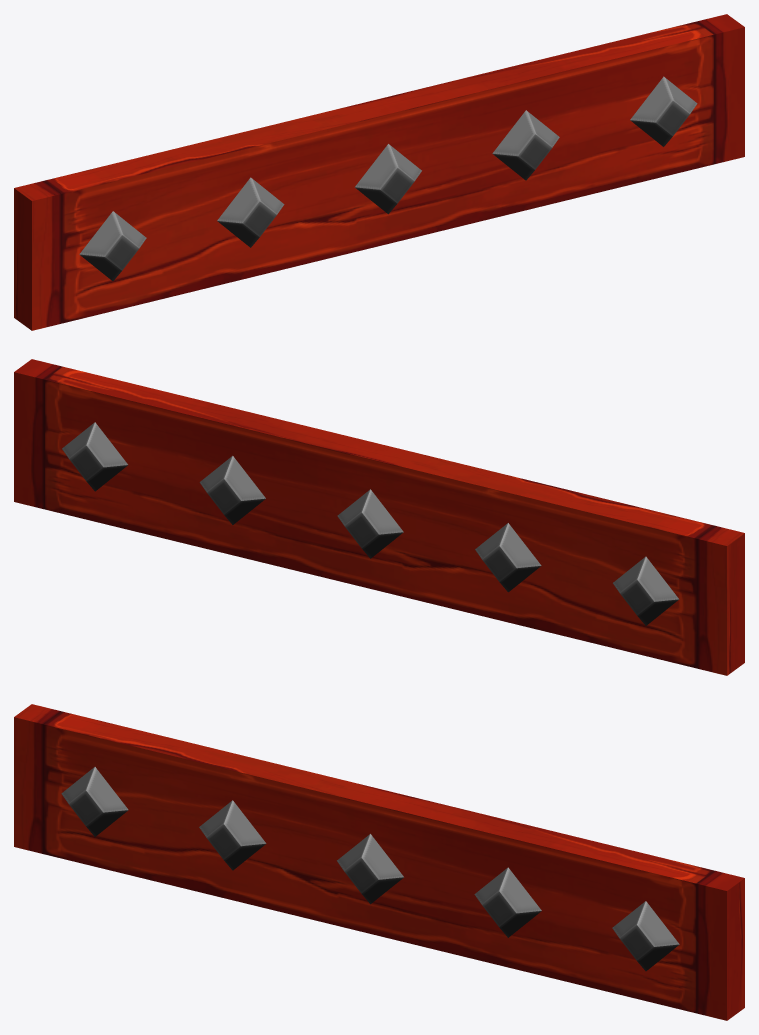
File: fence_rad_03.fbx
The picture shows the model from 3 angles, top to bottom: view 1: azimuth 30°, elevation 25°; view 2: azimuth 150°, elevation 25°; view 3: azimuth 330°, elevation 25°; orthographic projection.
Parts seen in each view (by area): view 1: fence_rad_03; view 2: fence_rad_03; view 3: fence_rad_03.
Boxes of the visible parts, x1,y1,x2,y2 form: fence_rad_03: (14, 14, 744, 330); fence_rad_03: (14, 359, 744, 675); fence_rad_03: (14, 704, 744, 1020).
Bounding box in the file's own units: 230 × 40 × 20.
